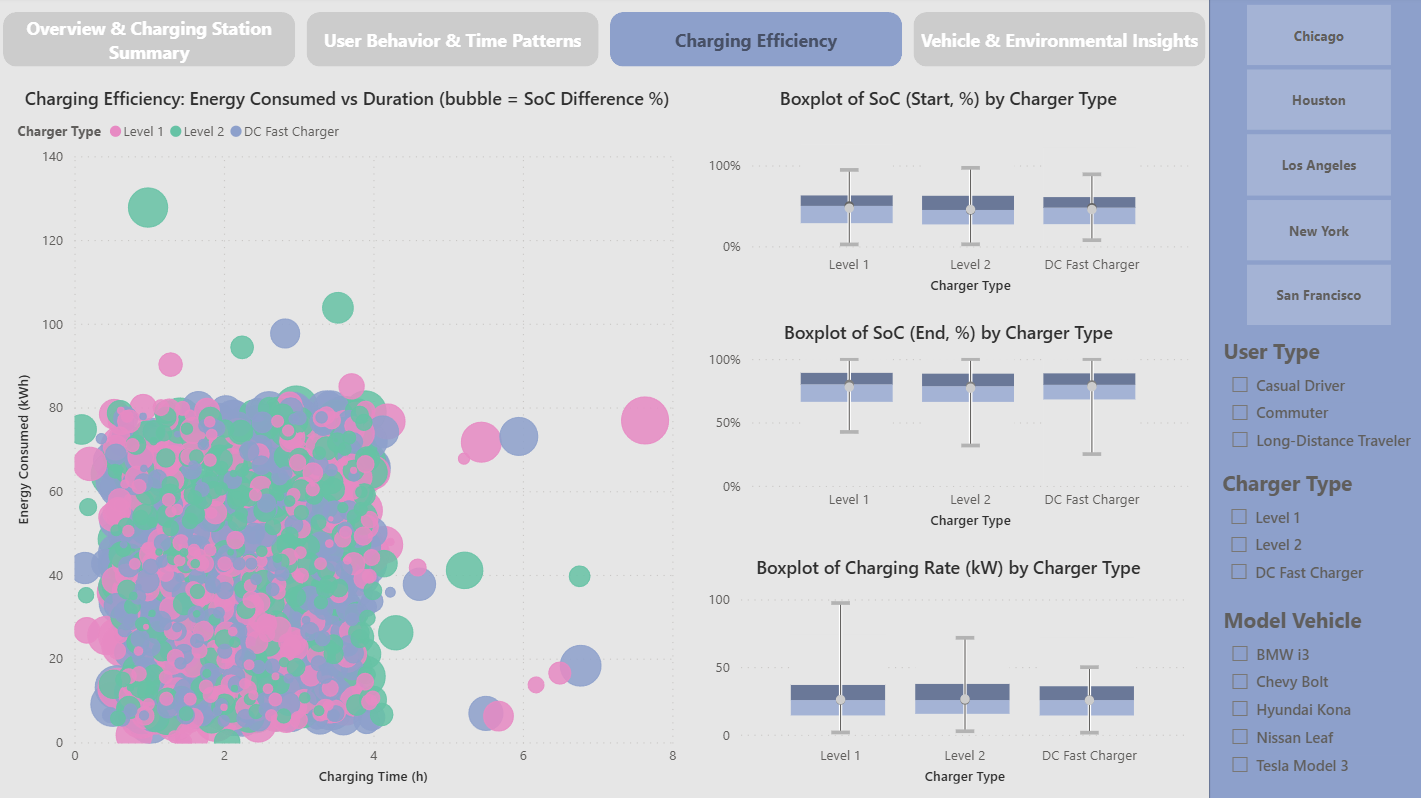

The dashboard page shown, as its layout file describes it:
{"tool":"powerbi","page":{"name":"Charging Efficiency","canvas":[1280,720],"ordinal":2},"visuals":[{"type":"shape","box":[1085.4,0,194.3,720],"z":1000},{"type":"slicer","fields":{"Values":["EV Charging.Charging Station Location"]},"box":[1093.4,0,179.1,300.9],"z":2000},{"type":"slicer","title":"Model Vehicle","fields":{"Values":["EV Charging.Vehicle Model"]},"box":[1093.3,546.2,178.4,164.5],"z":3000},{"type":"slicer","title":"User Type","fields":{"Values":["EV Charging.User Type"]},"box":[1093.3,305,178.4,110],"z":4000},{"type":"slicer","title":"Charger Type","fields":{"Values":["EV Charging.Charger Type"]},"box":[1092.5,422.7,178.2,115.5],"z":5000},{"type":"scatterChart","title":"Charging Efficiency: Energy Consumed vs Duration (bubble = SoC Difference %)","fields":{"Series":["EV Charging.Charger Type"],"X":["EV Charging.Charging Duration (hours)"],"Y":["Sum(EV Charging.Energy Consumed (kWh))"],"Size":["Metrics.Avg SoC Difference"]},"box":[12.5,79.7,600.9,631.3],"z":6000},{"type":"lineStackedColumnComboChart","title":"Boxplot of SoC (Start, %) by Charger Type","fields":{"Y2":["Metrics.SoC_Start_Min","Metrics.SoC_Start_Median","Metrics.SoC_Start_Mean","Metrics.SoC_Start_Max"],"Y":["Metrics.SoC_Start_Q1","Metrics.SoC_Start_IQR_1","Metrics.SoC_Start_IQR_2","Metrics.SoC_Start_Q3"],"Category":["EV Charging.Charger Type"]},"box":[631.3,79.7,441.5,190.7],"z":7000},{"type":"lineStackedColumnComboChart","title":"Boxplot of SoC (End, %) by Charger Type","fields":{"Y":["Metrics.SoC_End_Q1","Metrics.SoC_End_IQR_1","Metrics.SoC_End_IQR_2","Metrics.SoC_End_Q3"],"Y2":["Metrics.SoC_End_Min","Metrics.SoC_End_Median","Metrics.SoC_End_Mean","Metrics.SoC_End_Max"],"Category":["EV Charging.Charger Type"]},"box":[631.3,289.3,441.5,191.6],"z":8000},{"type":"lineStackedColumnComboChart","title":"Boxplot of Charging Rate (kW) by Charger Type","fields":{"Y2":["Metrics.ChargingRate_Min","Metrics.ChargingRate_Median","Metrics.ChargingRate_Mean","Metrics.ChargingRate_Max"],"Y":["Metrics.ChargingRate_Q1","Metrics.ChargingRate_IQR_1","Metrics.ChargingRate_IQR_2","Metrics.ChargingRate_Q3"],"Category":["EV Charging.Charger Type"]},"box":[631.3,500.6,441.5,210.4],"z":9000},{"type":"pageNavigator","box":[4.5,13.4,1079.1,49.3],"z":9001}]}

Visuals, with their boxes in screenshot pixels (x1, y1, x2, y2), scaled from the page's 1280x720 canvas onto the 1421x798 screenshot:
shape: BBox(1205, 0, 1420, 797)
slicer - EV Charging.Charging Station Location: BBox(1214, 0, 1413, 333)
"Model Vehicle" slicer: BBox(1214, 605, 1412, 788)
"User Type" slicer: BBox(1214, 338, 1412, 460)
"Charger Type" slicer: BBox(1213, 468, 1411, 597)
"Charging Efficiency: Energy Consumed vs Duration (bubble = SoC Difference %)" scatterChart: BBox(14, 88, 681, 788)
"Boxplot of SoC (Start, %) by Charger Type" lineStackedColumnComboChart: BBox(701, 88, 1191, 300)
"Boxplot of SoC (End, %) by Charger Type" lineStackedColumnComboChart: BBox(701, 321, 1191, 533)
"Boxplot of Charging Rate (kW) by Charger Type" lineStackedColumnComboChart: BBox(701, 555, 1191, 788)
pageNavigator: BBox(5, 15, 1203, 69)
